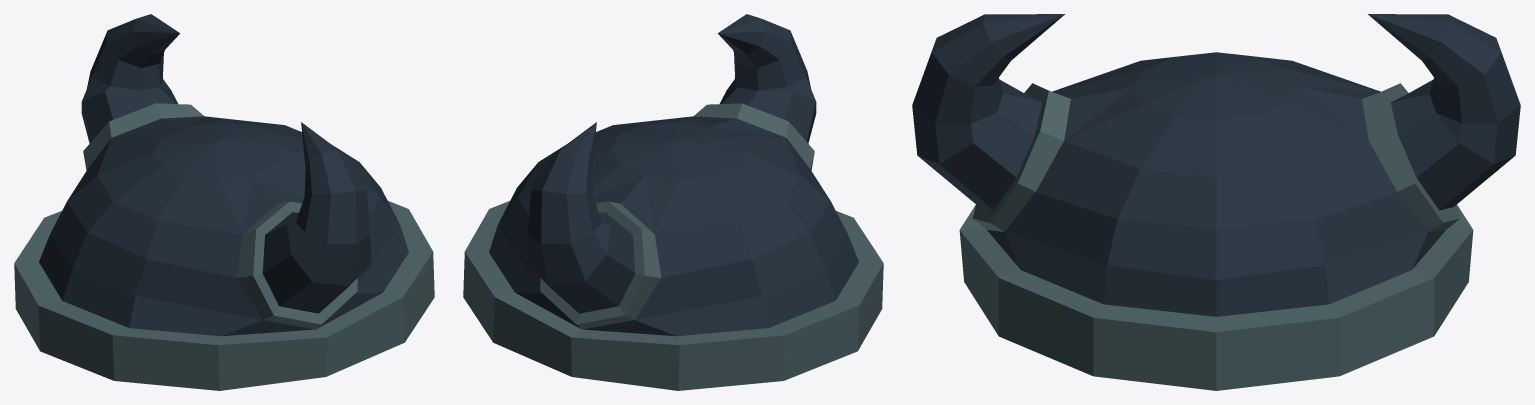
File: Helmet1.fbx
3 renders of one model, left to right at view 1: azimuth 30°, elevation 25°; view 2: azimuth 150°, elevation 25°; view 3: azimuth 270°, elevation 25°, orthographic. The views are drawn at different scales.
Visible parts, largest first — view 1: helmet1; view 2: helmet1; view 3: helmet1.
Part boxes in pixels (x1,y1,x2,y2): helmet1: (14, 14, 434, 390); helmet1: (463, 14, 883, 390); helmet1: (912, 14, 1520, 390).
Size of the model in its own units: 31.59 by 18.31 by 35.82.
